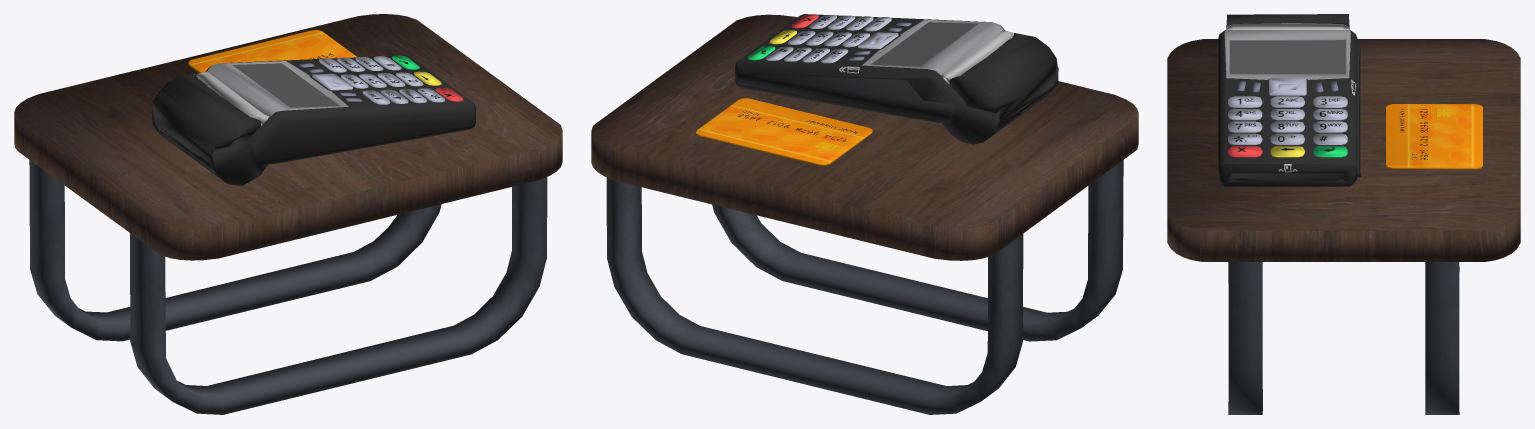
Rendered from business-plan-lower.glb.
3 views of the same model, side by side, from view 1: azimuth 30°, elevation 25°; view 2: azimuth 150°, elevation 25°; view 3: azimuth 270°, elevation 25° (orthographic). The views are drawn at different scales.
Visible parts, largest first — view 1: Top_1, Legs_1, geo_pos_aparat, geo_aparat_gapagy, geo_kart, geo_pos_aparat_ekeran; view 2: Top_1, Legs_1, geo_pos_aparat, geo_kart, geo_aparat_gapagy, geo_pos_aparat_ekeran; view 3: Top_1, geo_pos_aparat, Legs_1, geo_kart, geo_pos_aparat_ekeran, geo_aparat_gapagy, pCube5, pCube12, pCube13, pCube14, pCube16, pCube17 (+10 smaller).
Part boxes in pixels (x1,y1,x2,y2): Top_1: [14, 14, 562, 260]; Legs_1: [29, 160, 547, 414]; geo_pos_aparat: [152, 55, 476, 185]; geo_aparat_gapagy: [152, 71, 268, 173]; geo_kart: [188, 30, 357, 73]; geo_pos_aparat_ekeran: [232, 63, 339, 107]; Top_1: [591, 14, 1138, 260]; Legs_1: [606, 160, 1123, 414]; geo_pos_aparat: [735, 14, 1058, 144]; geo_kart: [696, 98, 872, 165]; geo_aparat_gapagy: [941, 30, 1057, 131]; geo_pos_aparat_ekeran: [871, 22, 977, 66]; Top_1: [1167, 39, 1520, 261]; geo_pos_aparat: [1218, 30, 1360, 186]; Legs_1: [1228, 262, 1459, 414]; geo_kart: [1386, 104, 1482, 169]; geo_pos_aparat_ekeran: [1229, 40, 1345, 74]; geo_aparat_gapagy: [1226, 14, 1349, 29]; pCube5: [1269, 78, 1306, 95]; pCube12: [1313, 96, 1347, 107]; pCube13: [1313, 121, 1347, 132]; pCube14: [1313, 133, 1347, 144]; pCube16: [1228, 109, 1262, 120]; pCube17: [1228, 96, 1262, 107].
Size of the model in its own units: 2.21 by 1.54 by 1.72.
12 materials, 7 textured.
